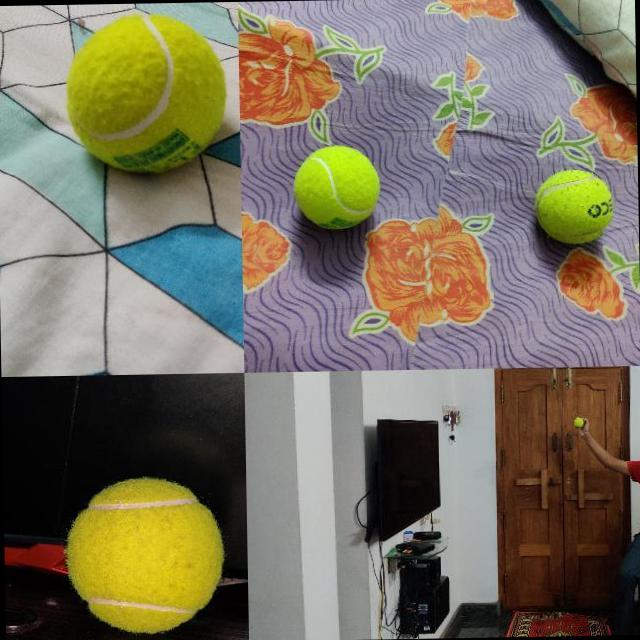tennis-ball: (62, 472, 225, 636), (64, 11, 226, 172), (292, 144, 379, 230), (534, 169, 614, 245), (573, 416, 583, 426)
